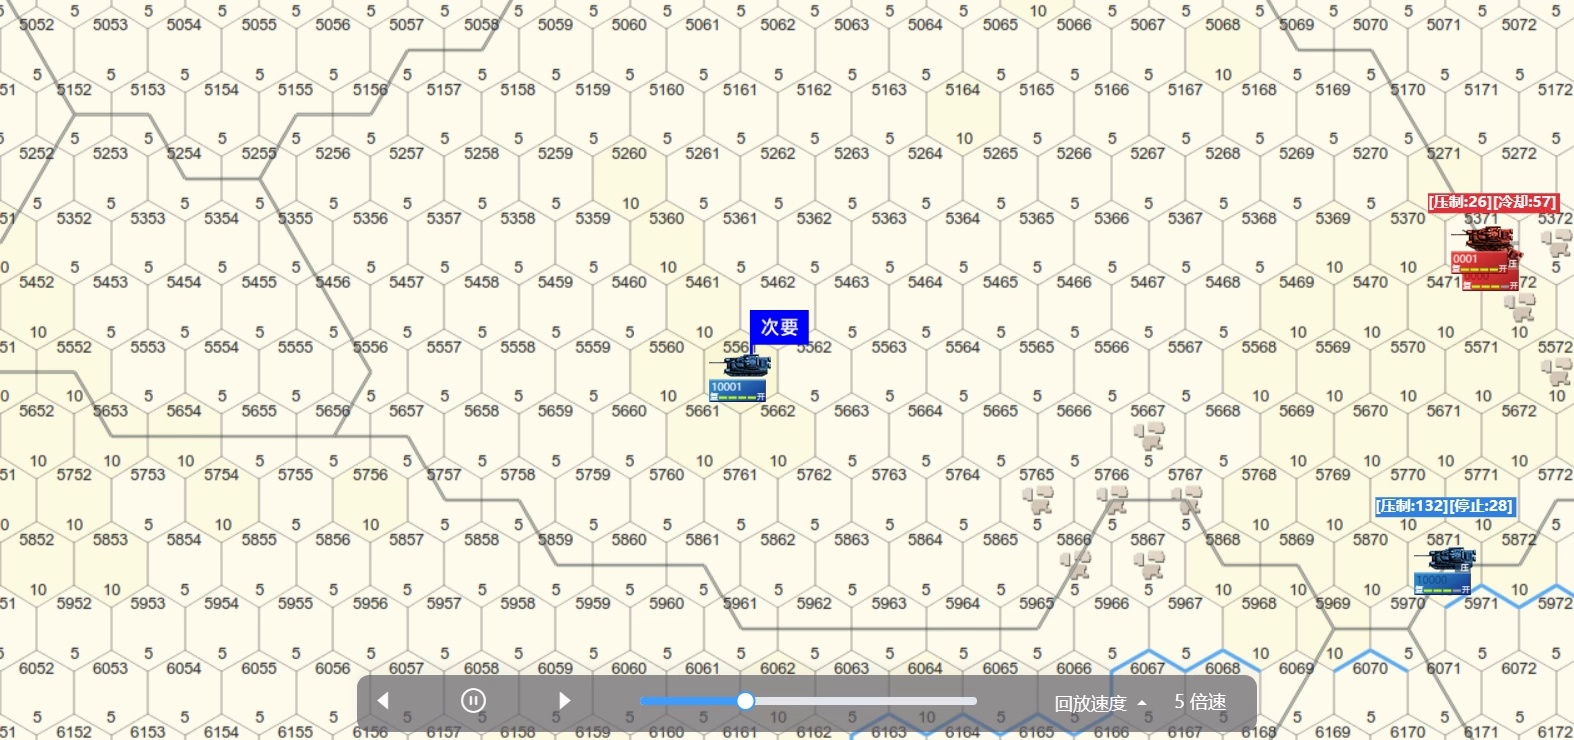blue_tank: (707, 347, 771, 399), (1422, 545, 1478, 592)
red_tank: (1460, 260, 1530, 297), (1452, 232, 1520, 270)
